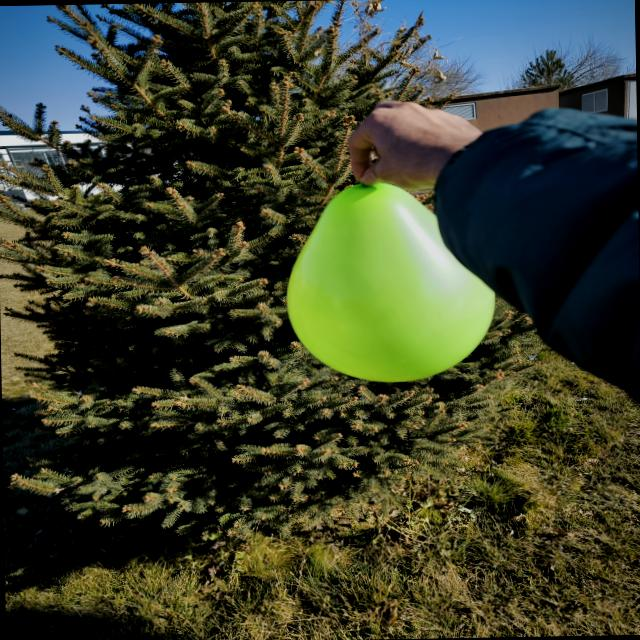balloon: (287, 183, 495, 382)
